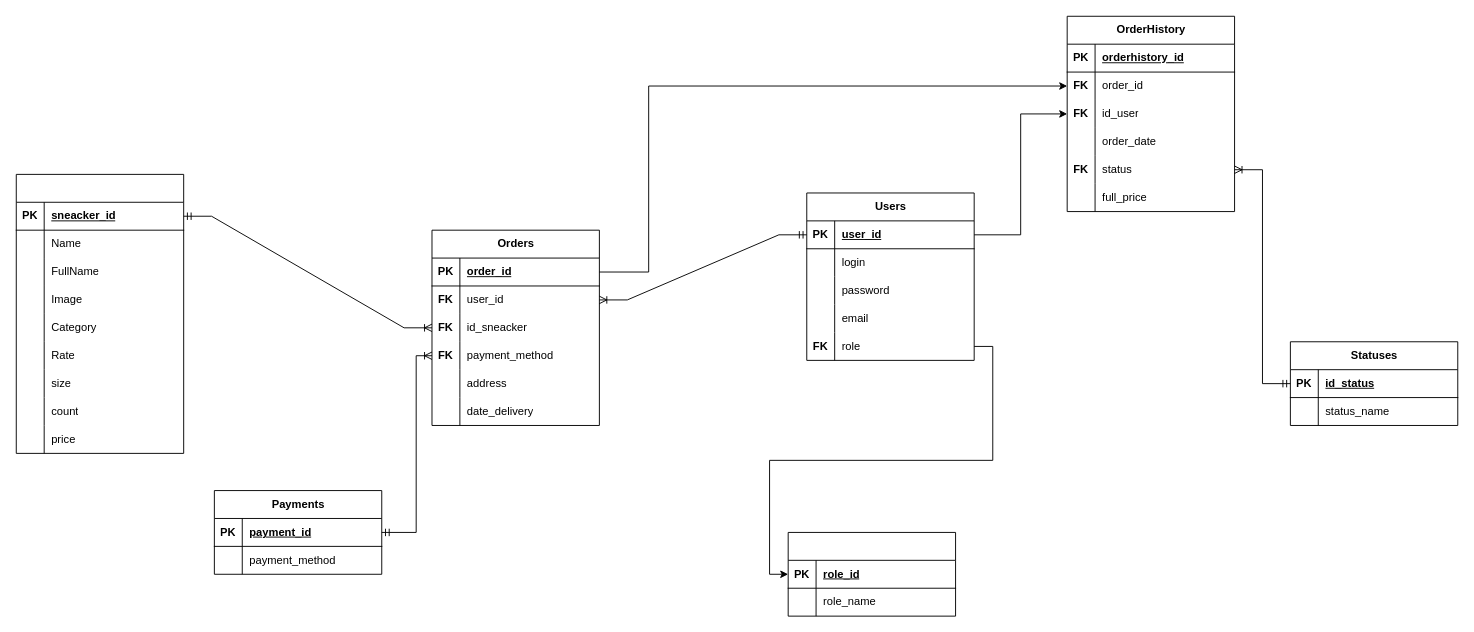
Some shapes in this 1474 by 632 pixel diagram are drawn without their labels. Each missing label, with the box of its shape:
Roles: (787, 531, 956, 616)
Sneackers: (15, 173, 184, 453)
